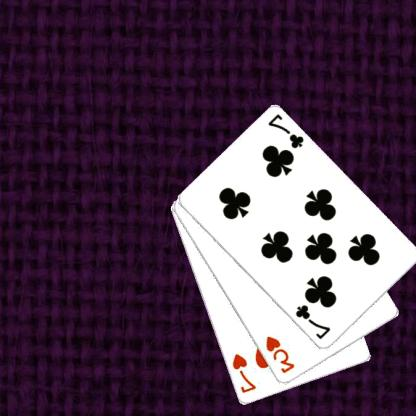3H: (265, 334, 298, 376)
7C: (294, 302, 334, 341), (268, 111, 308, 150)
7H: (231, 351, 259, 395)
